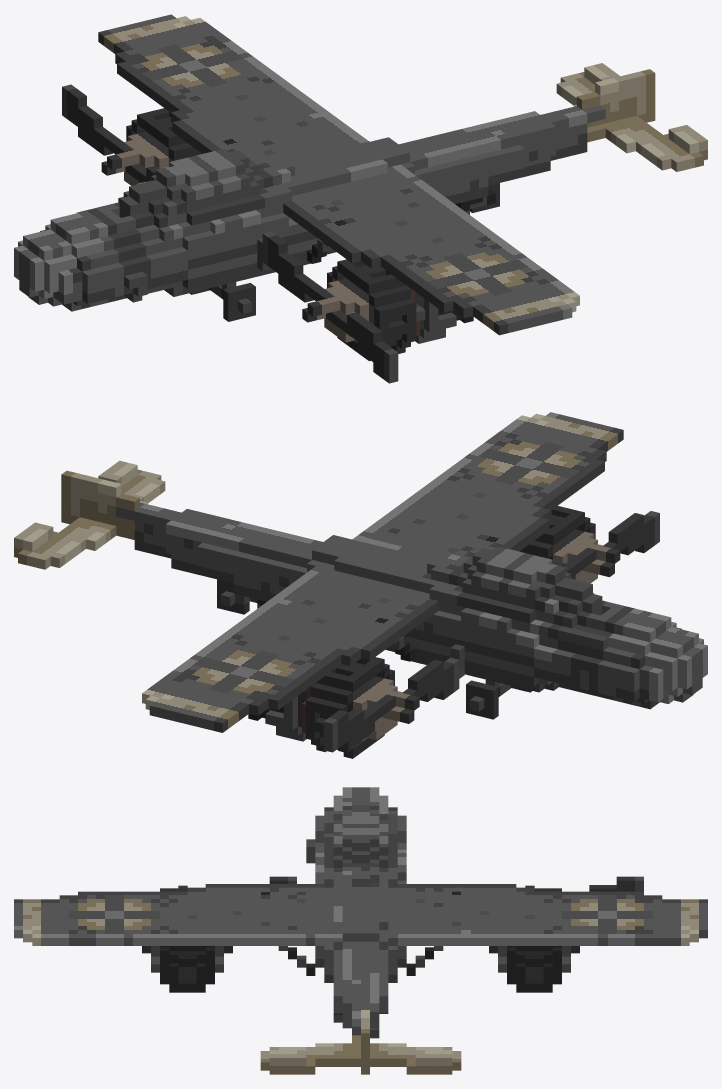
The model's file is what.gltf.
3 renders of one model, top to bottom at view 1: azimuth 30°, elevation 25°; view 2: azimuth 150°, elevation 25°; view 3: azimuth 270°, elevation 25°, orthographic. The views are drawn at different scales.
Parts seen in each view (by area): view 1: Plane01-Mesh; view 2: Plane01-Mesh; view 3: Plane01-Mesh.
Boxes of the visible parts, box(x1,y1,x2,y2) form: Plane01-Mesh: box(14, 14, 707, 383); Plane01-Mesh: box(14, 412, 707, 758); Plane01-Mesh: box(14, 787, 707, 1074).
Size of the model in its own units: 69 by 15 by 76.
Materials: 1 (1 with a texture image).
